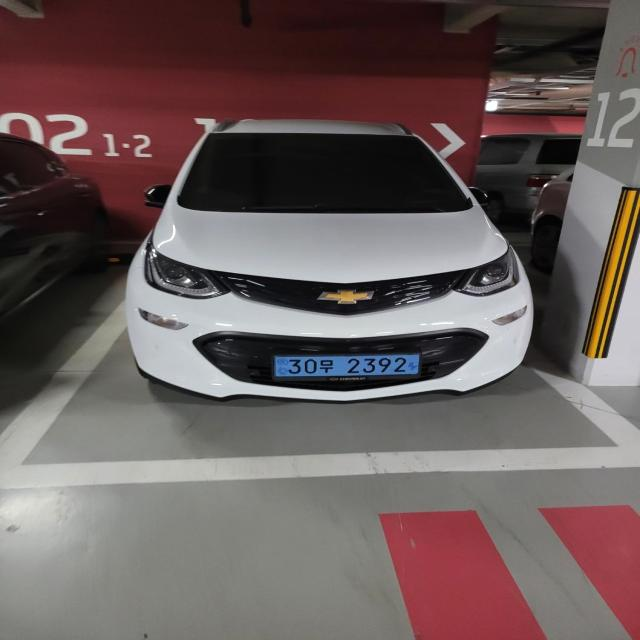EV_plate: (270, 350, 425, 388)
car: (125, 114, 540, 411)
